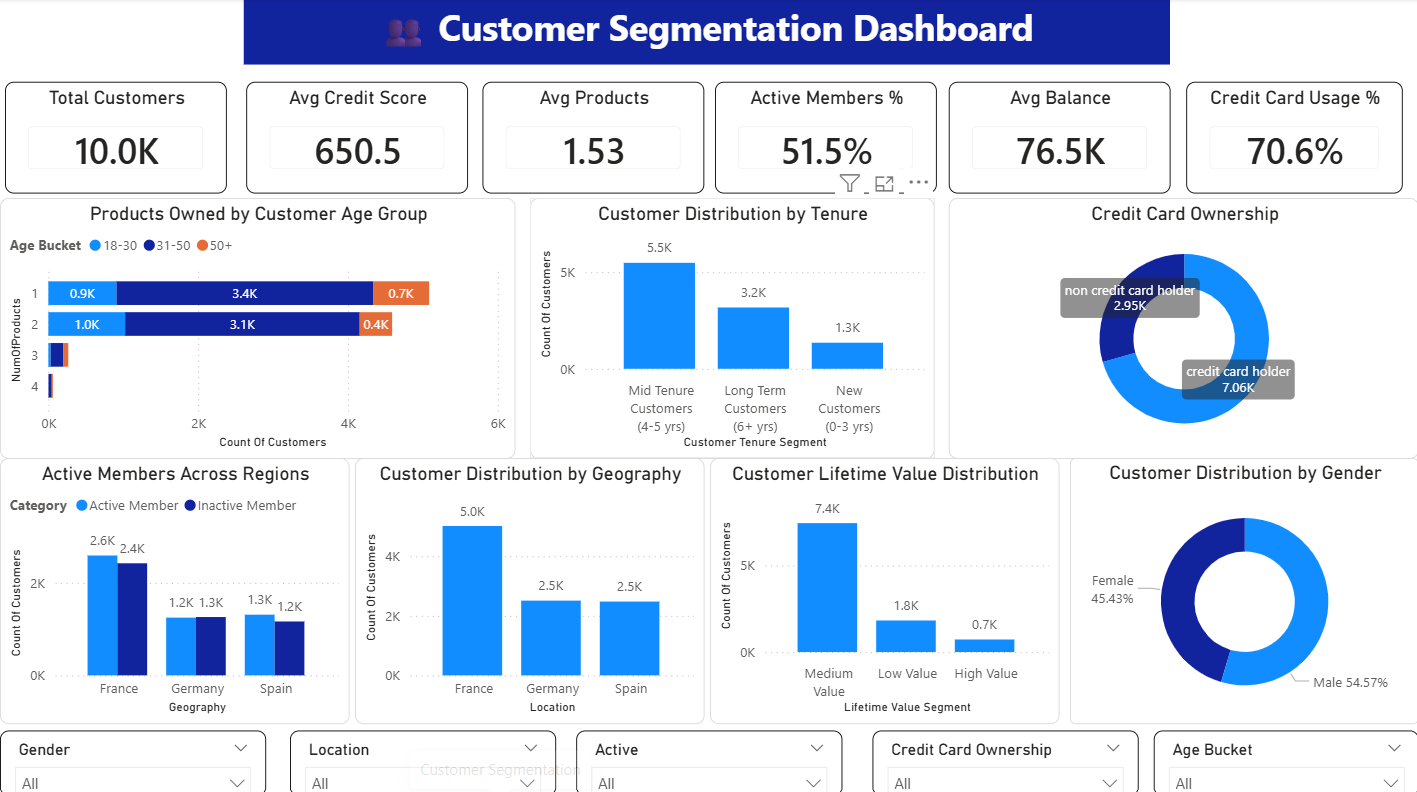

Layout of this report page (visuals, bound fields, positions):
{"tool":"powerbi","page":{"name":"Customer Segmentation ","canvas":[1280,720],"ordinal":2},"visuals":[{"type":"textbox","box":[220,0,835,60],"z":0},{"type":"cardVisual","title":"Total Customers","fields":{"Data":["CountNonNull(Bank_Churn.CustomerId)"]},"box":[5,75,200,100.6],"z":1000},{"type":"cardVisual","title":"Avg Products","fields":{"Data":["Avg(Bank_Churn.NumOfProducts)"]},"box":[435,75,200,100.6],"z":2000},{"type":"cardVisual","title":"Avg Credit Score","fields":{"Data":["Avg(Bank_Churn.CreditScore)"]},"box":[222,75,200,100.6],"z":3000},{"type":"cardVisual","title":"Avg Balance","fields":{"Data":["Bank_Churn.Average Bank Balance"]},"box":[855,75,200,100.6],"z":4000},{"type":"cardVisual","title":"Active Members %","fields":{"Data":["Bank_Churn.Active%"]},"box":[645,75,200,100.6],"z":5000},{"type":"cardVisual","title":"Credit Card Usage %","fields":{"Data":["Bank_Churn.Credit Card Usage%"]},"box":[1070,75,195,100.6],"z":6000},{"type":"clusteredColumnChart","title":"Customer Distribution by Geography","fields":{"Category":["Geography.GeographyLocation"],"Y":["CountNonNull(Bank_Churn.CustomerId)"]},"box":[320,415,315,240],"z":7000},{"type":"donutChart","title":"Customer Distribution by Gender","fields":{"Category":["Gender.GenderCategory"],"Y":["CountNonNull(CustomerInfo.CustomerId)"]},"box":[965,415,315,240],"z":8000},{"type":"clusteredColumnChart","title":"Customer Distribution by Tenure","fields":{"Category":["Bank_Churn.Customer Tenure Segment"],"Y":["CountNonNull(Bank_Churn.CustomerId)"]},"box":[478.3,180,365,235],"z":9000},{"type":"clusteredColumnChart","title":"Customer Lifetime Value Distribution","fields":{"Category":["Bank_Churn.Lifetime Value Segment"],"Y":["CountNonNull(Bank_Churn.CustomerId)"]},"box":[640,415,315,240],"z":10000},{"type":"donutChart","title":"Credit Card Ownership","fields":{"Category":["CreditCard.Category"],"Y":["CountNonNull(Bank_Churn.CustomerId)"]},"box":[855,180,425,235],"z":11000},{"type":"clusteredColumnChart","title":"Active Members Across Regions","fields":{"Series":["ActiveCustomer.ActiveCategory"],"Category":["Geography.GeographyLocation"],"Y":["CountNonNull(CustomerInfo.CustomerId)"]},"box":[0,415,315,240],"z":12000},{"type":"barChart","title":"Products Owned by Customer Age Group","fields":{"Category":["Bank_Churn.NumOfProducts"],"Series":["CustomerInfo.Age Bucket"],"Y":["CountNonNull(Bank_Churn.CustomerId)"]},"box":[0,180,465,235],"z":13000},{"type":"slicer","fields":{"Values":["Geography.GeographyLocation"]},"box":[261.7,660,240,60],"z":14000},{"type":"slicer","fields":{"Values":["Gender.GenderCategory"]},"box":[0,660.4,240,60],"z":15000},{"type":"slicer","fields":{"Values":["ActiveCustomer.ActiveCategory"]},"box":[520,660,240,60],"z":16000},{"type":"slicer","fields":{"Values":["CreditCard.Category"]},"box":[786.7,660,240,60],"z":17000},{"type":"slicer","fields":{"Values":["CustomerInfo.Age Bucket"]},"box":[1040,660,240,60],"z":18000}]}

Visuals, with their boxes in screenshot pixels (x1, y1, x2, y2), scaled from the page's 1280x720 canvas onto the 1417x792 screenshot:
textbox: 244,0,1168,66
"Total Customers" cardVisual: 6,82,227,193
"Avg Products" cardVisual: 482,82,703,193
"Avg Credit Score" cardVisual: 246,82,467,193
"Avg Balance" cardVisual: 947,82,1168,193
"Active Members %" cardVisual: 714,82,935,193
"Credit Card Usage %" cardVisual: 1185,82,1400,193
"Customer Distribution by Geography" clusteredColumnChart: 354,457,703,721
"Customer Distribution by Gender" donutChart: 1068,457,1416,721
"Customer Distribution by Tenure" clusteredColumnChart: 529,198,934,457
"Customer Lifetime Value Distribution" clusteredColumnChart: 708,457,1057,721
"Credit Card Ownership" donutChart: 947,198,1416,457
"Active Members Across Regions" clusteredColumnChart: 0,457,349,721
"Products Owned by Customer Age Group" barChart: 0,198,515,457
slicer - Geography.GeographyLocation: 290,726,555,791
slicer - Gender.GenderCategory: 0,726,266,791
slicer - ActiveCustomer.ActiveCategory: 576,726,841,791
slicer - CreditCard.Category: 871,726,1137,791
slicer - CustomerInfo.Age Bucket: 1151,726,1416,791
